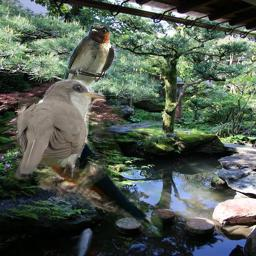Cuckoo: (13, 79, 106, 180)
Swallow: (18, 96, 163, 237), (47, 22, 115, 119)
